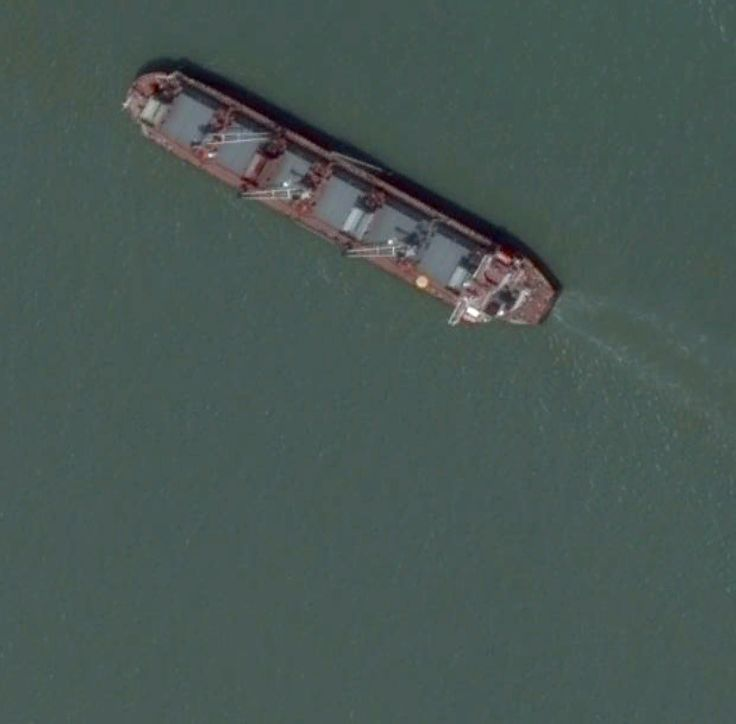boat: (122, 69, 560, 329)
